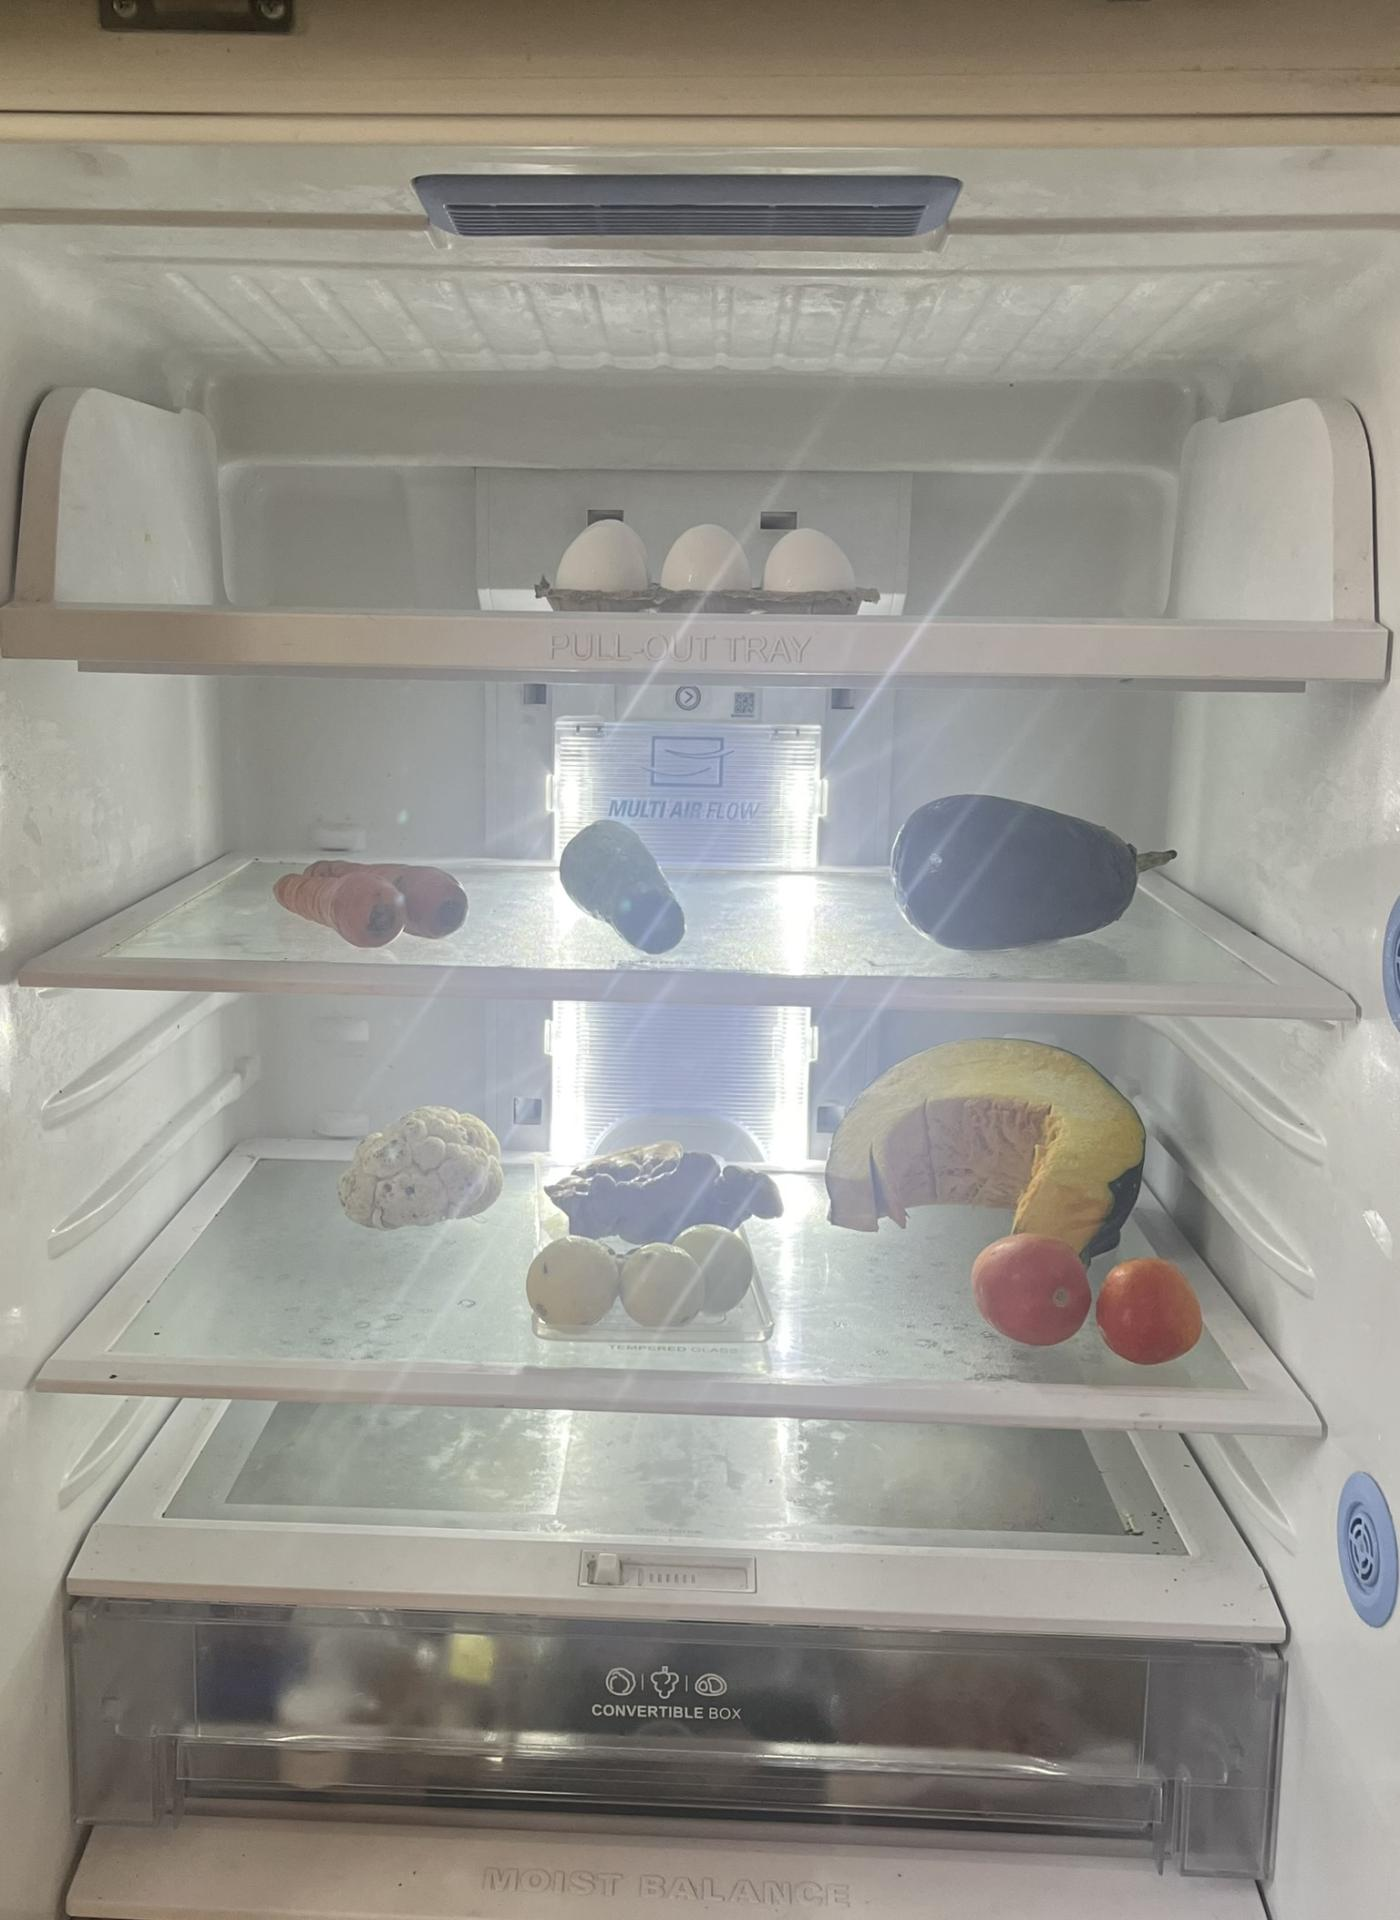brinjal: (886, 793, 1196, 953)
carrots: (276, 845, 470, 945)
cauliflower: (337, 1103, 507, 1234)
cucumber: (559, 821, 693, 959)
egg: (556, 519, 866, 593)
ginger: (528, 1145, 796, 1245)
lemon: (528, 1240, 759, 1331)
pumpkin: (819, 1035, 1155, 1233)
tomato: (963, 1248, 1209, 1357)
